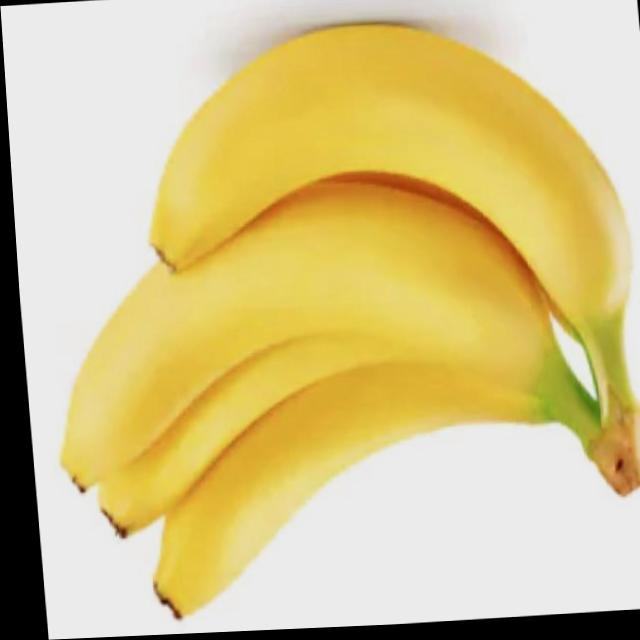Banana: (23, 12, 640, 630)
